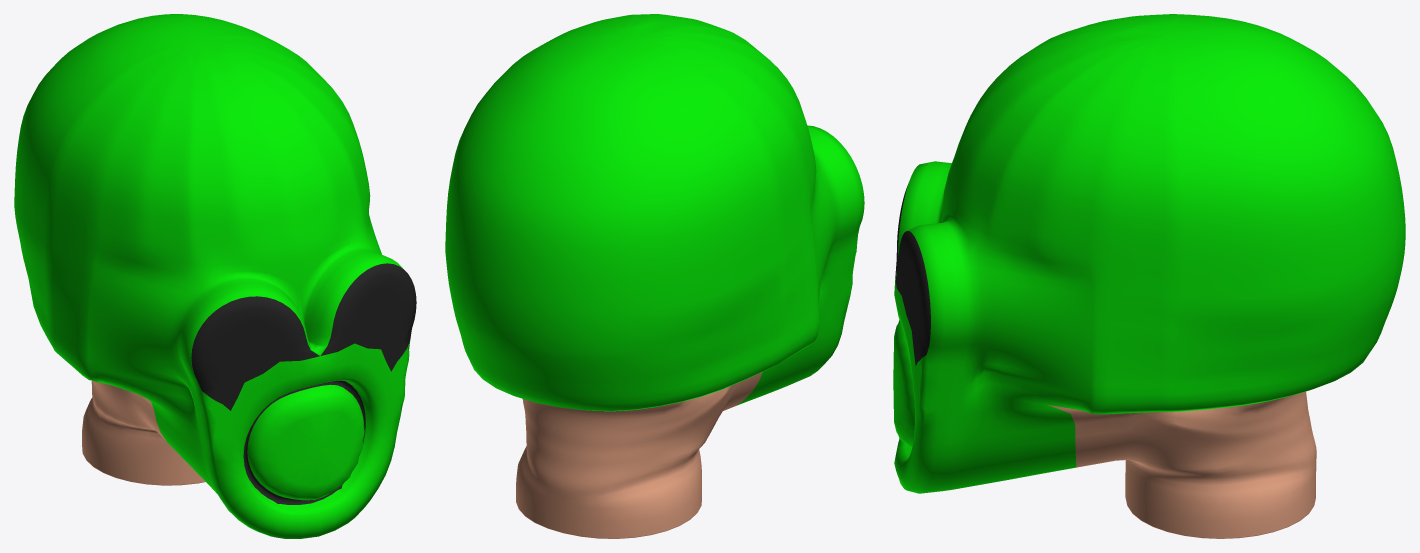
The model's file is MASKFINAL.fbx.
3 renders of one model, left to right at view 1: azimuth 30°, elevation 25°; view 2: azimuth 150°, elevation 25°; view 3: azimuth 270°, elevation 25°, orthographic. The views are drawn at different scales.
Visible parts, largest first — view 1: pasted__pasted__pasted__pCylinder8; view 2: pasted__pasted__pasted__pCylinder8; view 3: pasted__pasted__pasted__pCylinder8.
Part boxes in pixels (x1,y1,x2,y2): pasted__pasted__pasted__pCylinder8: (14,14,416,538); pasted__pasted__pasted__pCylinder8: (445,14,864,538); pasted__pasted__pasted__pCylinder8: (893,14,1405,538).
Size of the model in its own units: 4.59 by 6.38 by 6.37.
